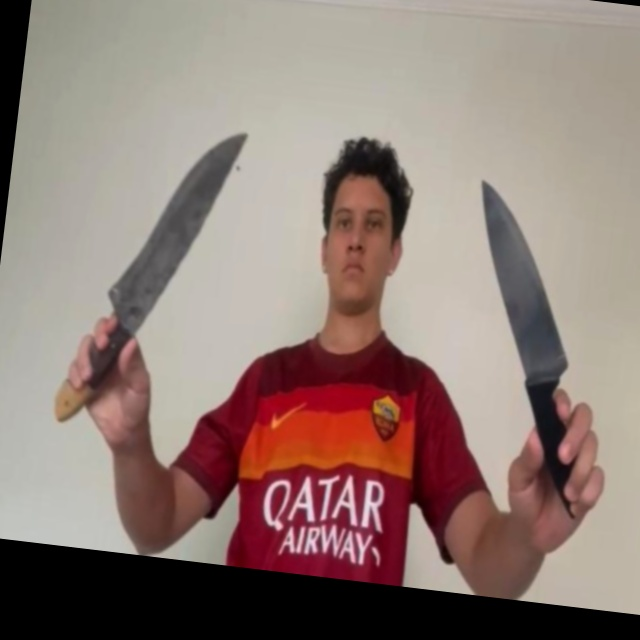Sharp-Object: (105, 118, 248, 313), (459, 177, 591, 378)
